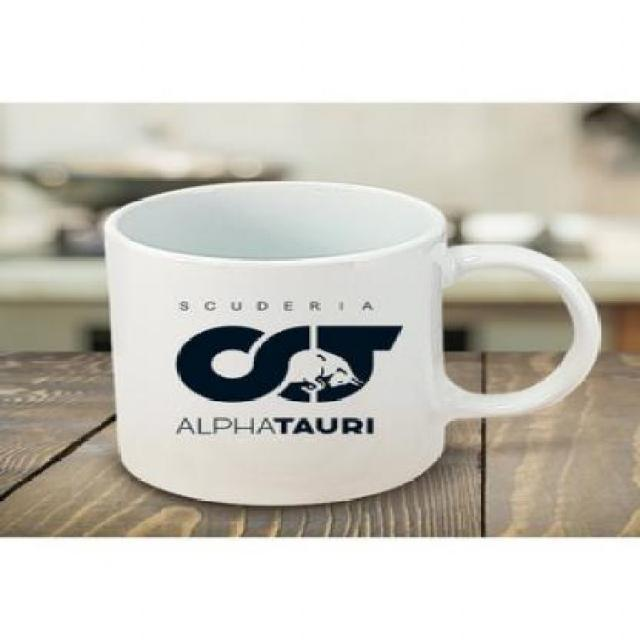taza: (103, 178, 602, 506)
